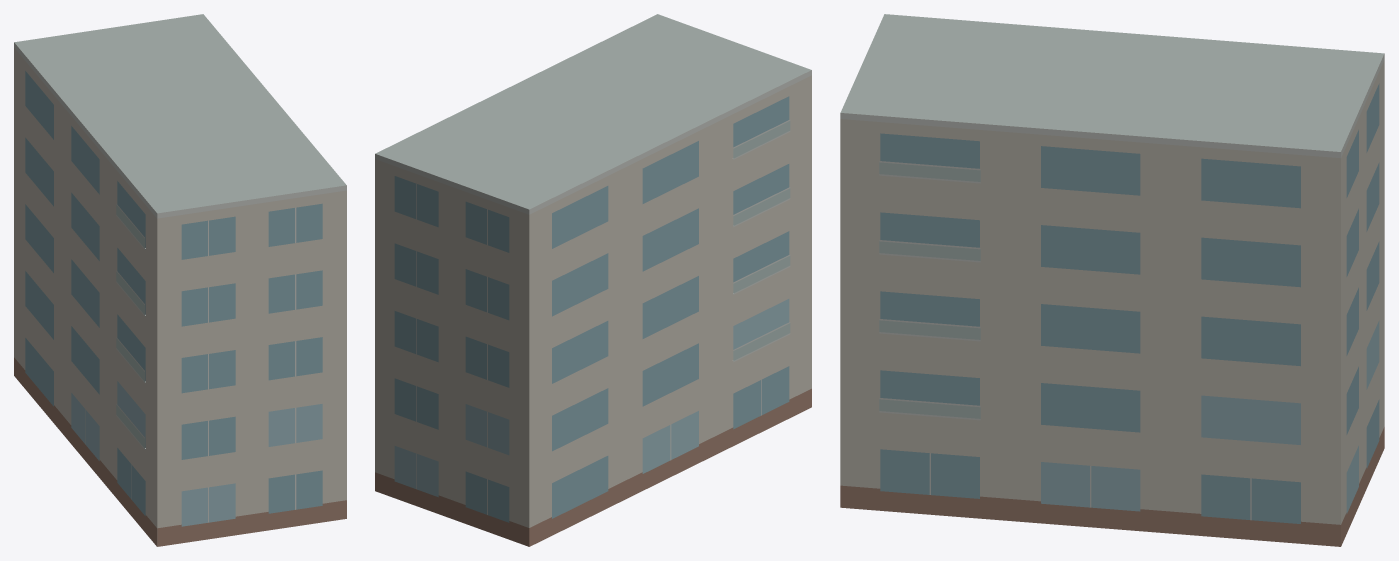
Rendered from survey-upis-32705431.glb.
3 renders of one model, left to right at view 1: azimuth 30°, elevation 25°; view 2: azimuth 150°, elevation 25°; view 3: azimuth 270°, elevation 25°, orthographic. The views are drawn at different scales.
Visible parts, largest first — view 1: survey-upis-32705431.tmp; view 2: survey-upis-32705431.tmp; view 3: survey-upis-32705431.tmp.
Part boxes in pixels (x1,y1,x2,y2): survey-upis-32705431.tmp: [14, 14, 346, 546]; survey-upis-32705431.tmp: [375, 14, 811, 546]; survey-upis-32705431.tmp: [840, 14, 1384, 546].
Bounding box in the file's own units: 11.78 × 15.7 × 19.62.
